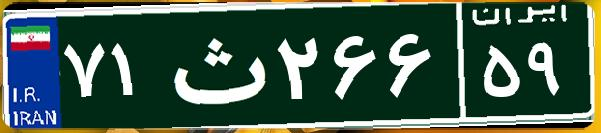1: (110, 28, 158, 105)
2: (273, 28, 330, 110)
5: (475, 38, 525, 113)
6: (385, 28, 445, 110), (330, 28, 385, 110)
7: (57, 26, 110, 107)
9: (525, 38, 570, 115)
ث: (158, 15, 273, 115)
